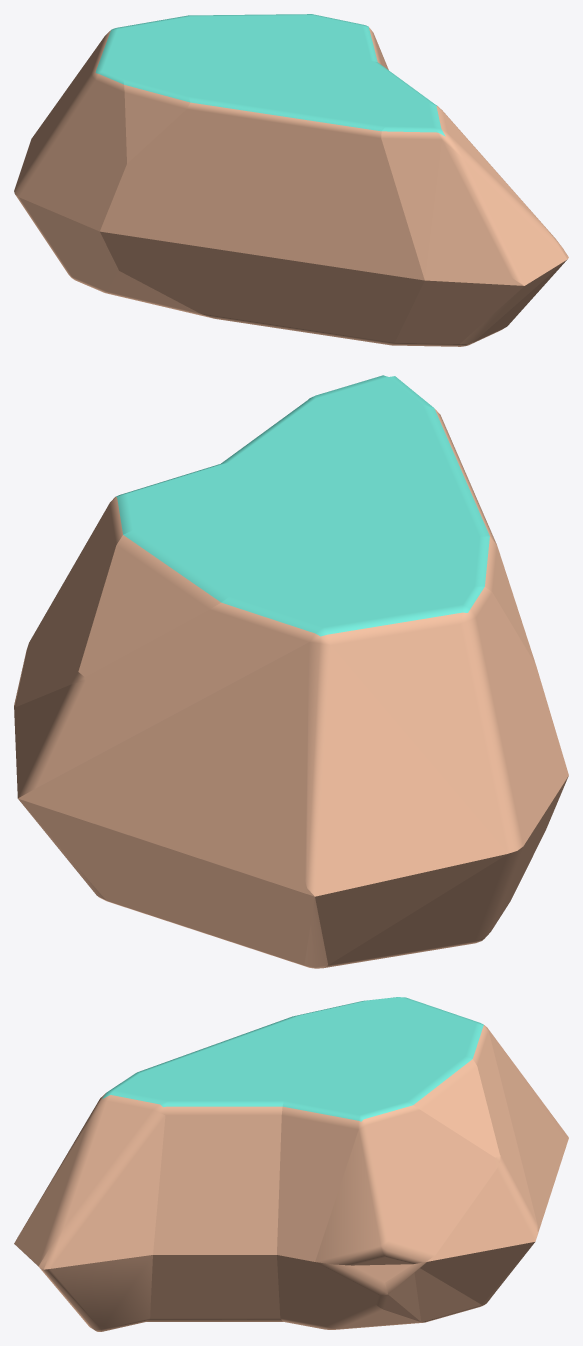
Rendered from rock_largeB.glb.
3 views of the same model, one above another, from view 1: azimuth 30°, elevation 25°; view 2: azimuth 150°, elevation 25°; view 3: azimuth 270°, elevation 25° (orthographic). The views are drawn at different scales.
Visible parts, largest first — view 1: rock_largeB; view 2: rock_largeB; view 3: rock_largeB.
Boxes of the visible parts, left/top/right/bottom form: rock_largeB: left=14, top=14, right=568, bottom=346; rock_largeB: left=14, top=375, right=568, bottom=968; rock_largeB: left=14, top=997, right=568, bottom=1331.
Size of the model in its own units: 0.7565 by 0.4303 by 1.01.
